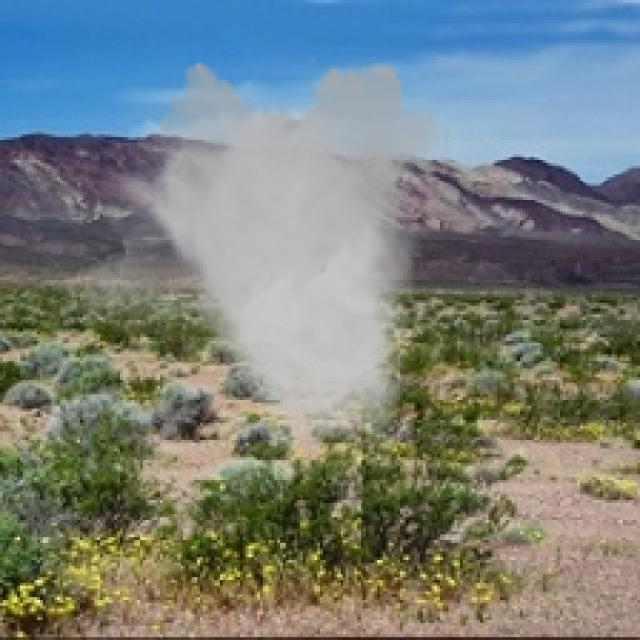smoke: (66, 51, 451, 460)
